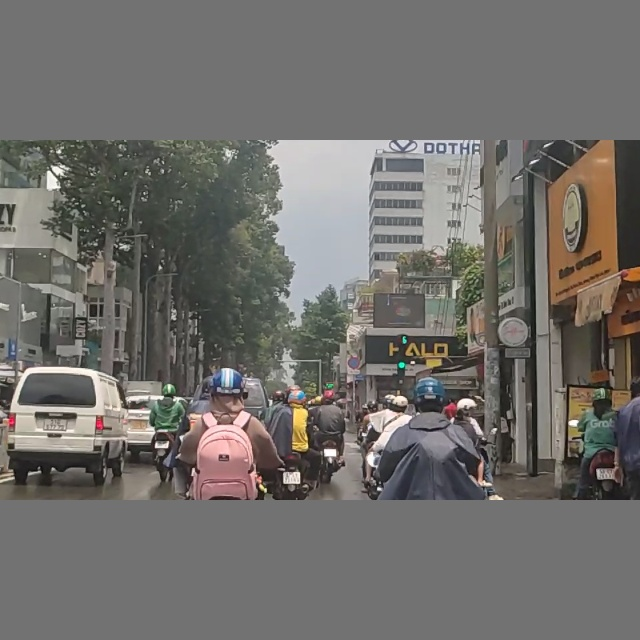P.131a: (348, 356, 361, 369)
